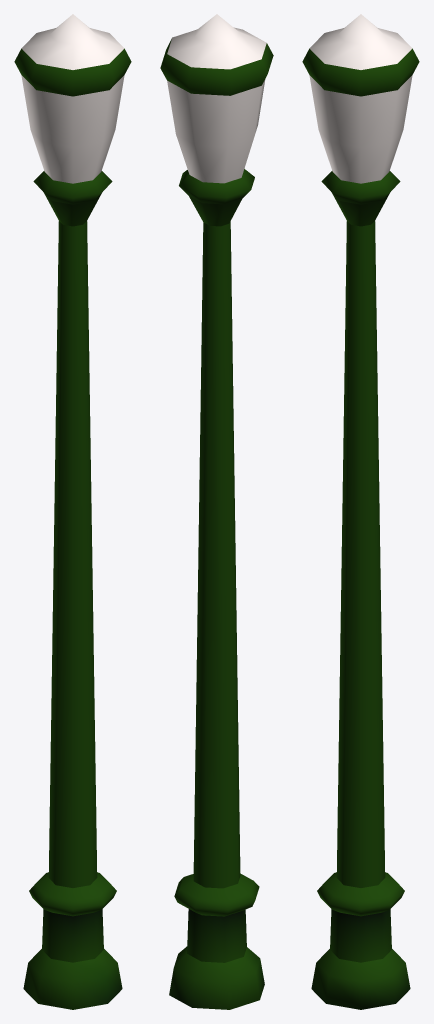
Rendered from CenarioFase1.fbx_poste.fbx.
The picture shows the model from 3 angles, left to right: view 1: azimuth 90°, elevation 25°; view 2: azimuth 150°, elevation 25°; view 3: azimuth 270°, elevation 25°; orthographic projection.
Parts seen in each view (by area): view 1: poste; view 2: poste; view 3: poste.
Boxes of the visible parts, left/top/right/bottom form: poste: left=14, top=14, right=131, bottom=1009; poste: left=160, top=14, right=273, bottom=1009; poste: left=302, top=14, right=419, bottom=1009.
Size of the model in its own units: 169 by 1554 by 169.
